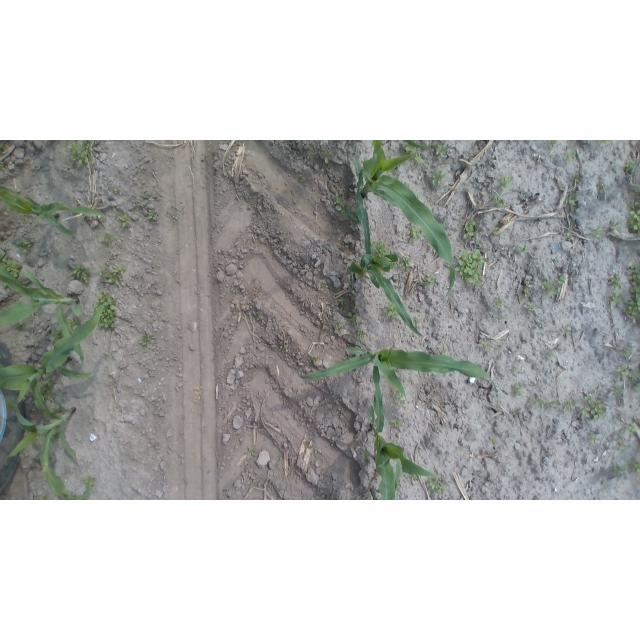Maize: (300, 347, 502, 435), (348, 140, 455, 300), (345, 154, 431, 336), (1, 296, 110, 409), (363, 361, 445, 500), (1, 377, 92, 500), (1, 262, 86, 367), (1, 183, 110, 237)
Weeds: (455, 249, 487, 288), (624, 263, 640, 326), (64, 140, 96, 166), (95, 290, 115, 330), (616, 365, 640, 393), (99, 263, 128, 286), (0, 251, 22, 280), (403, 142, 427, 166), (584, 401, 607, 420), (69, 265, 91, 284), (429, 476, 446, 500), (628, 202, 640, 234), (15, 237, 36, 255), (463, 218, 480, 240), (38, 380, 54, 402), (497, 172, 515, 191), (541, 279, 558, 297), (430, 168, 446, 187), (394, 388, 407, 411), (608, 292, 625, 309), (421, 273, 439, 289), (408, 226, 423, 245), (139, 191, 159, 205), (138, 333, 154, 350), (334, 196, 349, 214), (615, 432, 629, 451), (430, 144, 450, 157), (589, 226, 605, 242), (383, 304, 400, 319), (529, 395, 547, 409), (118, 214, 133, 230), (83, 475, 97, 492), (375, 241, 390, 256), (398, 256, 413, 271), (628, 458, 640, 476), (522, 283, 534, 301), (612, 465, 627, 479), (563, 149, 577, 164), (100, 233, 116, 246), (322, 149, 335, 165), (49, 327, 62, 343), (624, 159, 637, 174), (511, 384, 526, 397), (347, 310, 359, 326), (561, 323, 575, 336), (610, 275, 623, 289), (566, 194, 578, 209), (493, 193, 505, 207), (564, 399, 576, 413), (493, 297, 506, 309), (148, 211, 160, 224), (547, 345, 558, 359), (67, 316, 79, 328), (513, 409, 526, 420), (524, 302, 537, 313), (480, 342, 493, 353), (391, 419, 404, 430), (628, 421, 638, 435), (557, 274, 568, 286), (597, 182, 608, 194), (613, 385, 625, 396), (550, 400, 563, 410), (249, 444, 259, 457), (610, 221, 623, 231), (622, 346, 632, 359), (356, 329, 366, 341), (547, 140, 561, 148), (362, 448, 370, 462), (584, 393, 595, 403), (512, 366, 522, 377), (590, 433, 601, 443), (490, 436, 499, 448), (171, 211, 181, 221), (571, 171, 581, 181), (309, 355, 319, 365), (564, 232, 574, 242), (303, 441, 314, 450), (457, 445, 468, 453), (491, 226, 502, 234), (633, 186, 640, 198), (37, 493, 51, 499), (0, 159, 6, 173), (114, 187, 123, 196), (338, 297, 347, 306), (413, 316, 422, 325), (278, 341, 286, 351), (600, 140, 613, 146), (53, 427, 60, 438), (410, 473, 418, 482), (520, 246, 528, 255), (339, 407, 346, 415), (54, 407, 62, 414), (323, 280, 330, 288), (44, 140, 55, 145), (255, 315, 262, 322), (300, 173, 305, 179)
